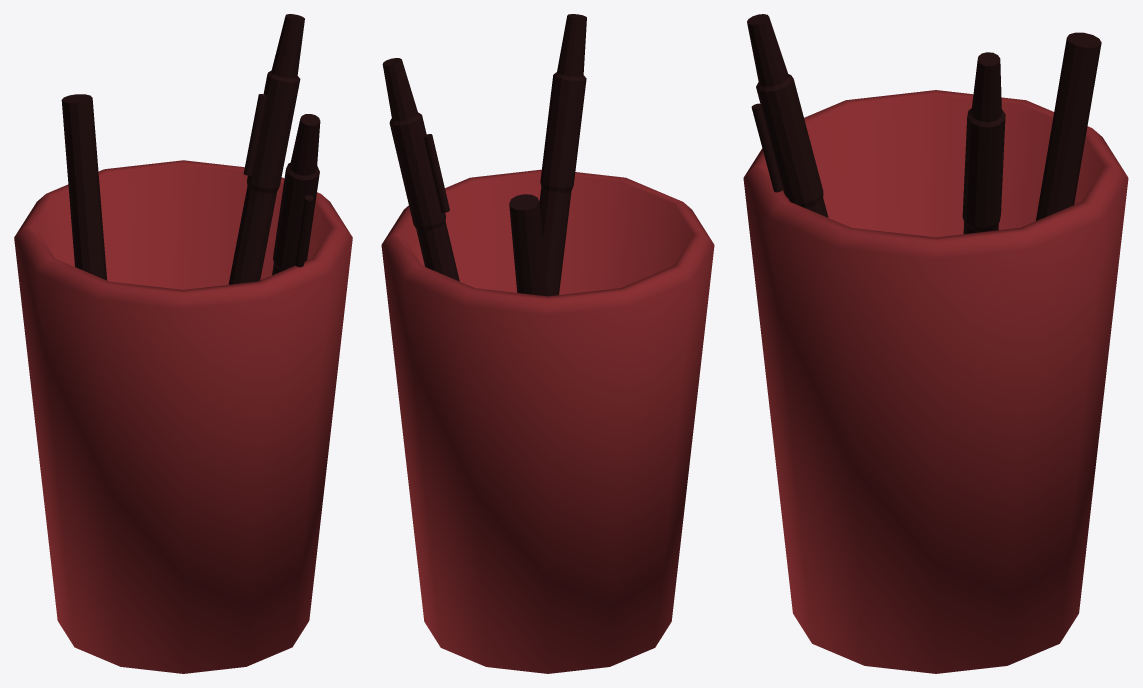
File: Cup With Pens .fbx
3 views of the same model, side by side, from view 1: azimuth 30°, elevation 25°; view 2: azimuth 150°, elevation 25°; view 3: azimuth 270°, elevation 25° (orthographic). The views are drawn at different scales.
Parts seen in each view (by area): view 1: Cylinder.002, Cylinder.007, Cylinder.005, Cylinder.004; view 2: Cylinder.002, Cylinder.004, Cylinder.007, Cylinder.005; view 3: Cylinder.002, Cylinder.004, Cylinder.005, Cylinder.007.
Boxes of the visible parts, x1,y1,x2,y2 form: Cylinder.002: (14,160,352,673); Cylinder.007: (228,14,304,284); Cylinder.005: (61,94,106,280); Cylinder.004: (272,114,320,275); Cylinder.002: (381,169,714,673); Cylinder.004: (539,14,586,296); Cylinder.007: (382,58,459,281); Cylinder.005: (509,194,547,296); Cylinder.002: (743,90,1128,673); Cylinder.004: (747,14,828,217); Cylinder.005: (1036,32,1101,220); Cylinder.007: (962,52,1005,234).
Bounding box in the file's own units: 43.7 × 79.08 × 43.7.
